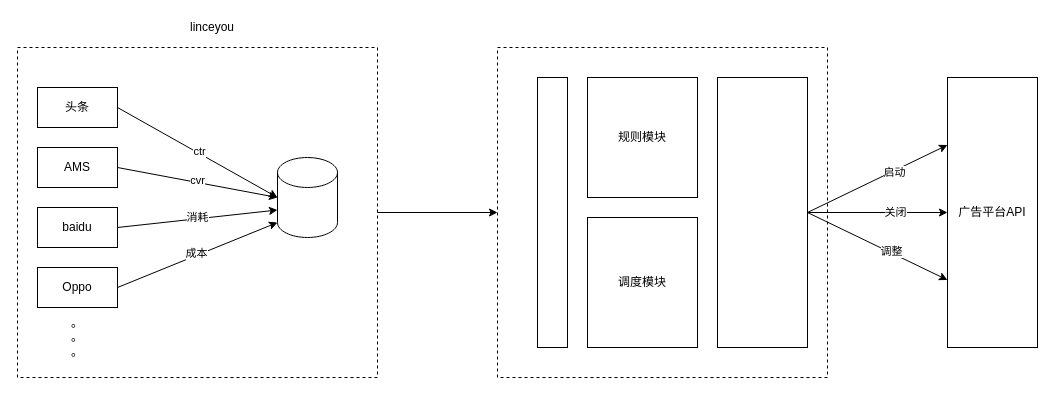
Some shapes in this 1055 by 395 pixel diagram are drawn without their labels. Each missing label, with the centre of its shape:
clickhouse: (307,197)
执行模块: (762,212)
指标模块: (552,212)
